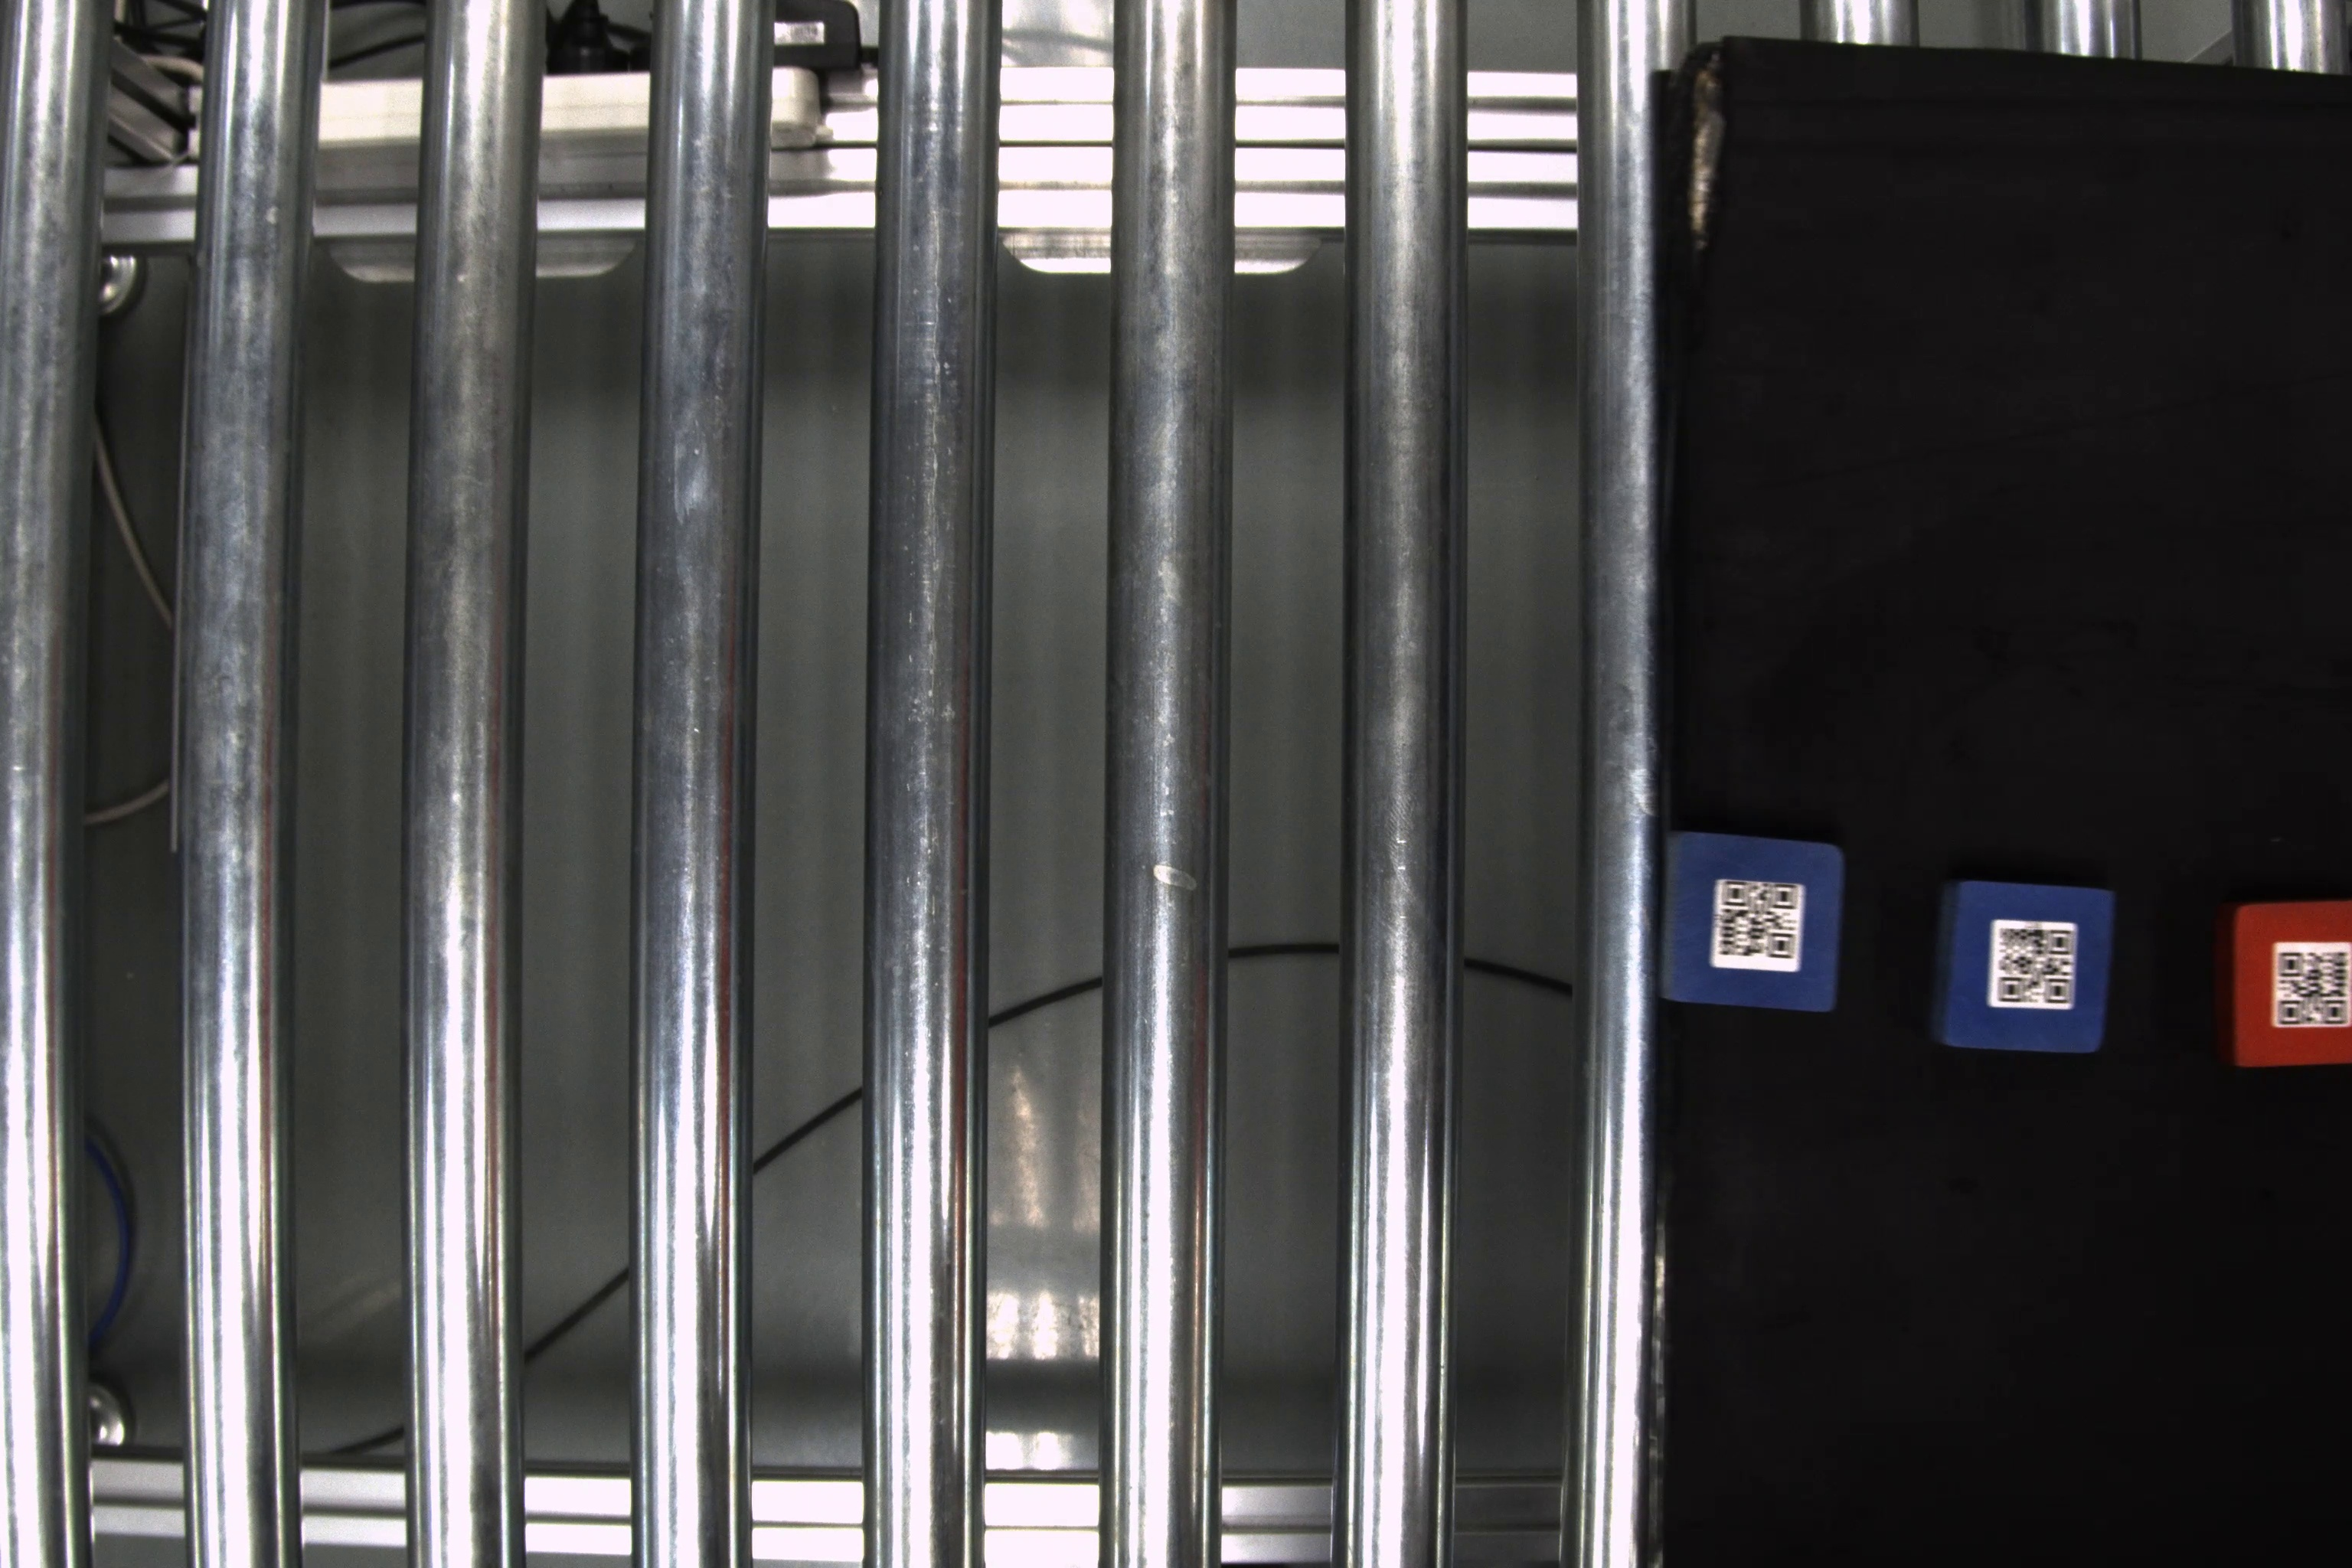wood: (1657, 826, 1853, 1011), (1937, 880, 2123, 1059), (2214, 896, 2352, 1078)
